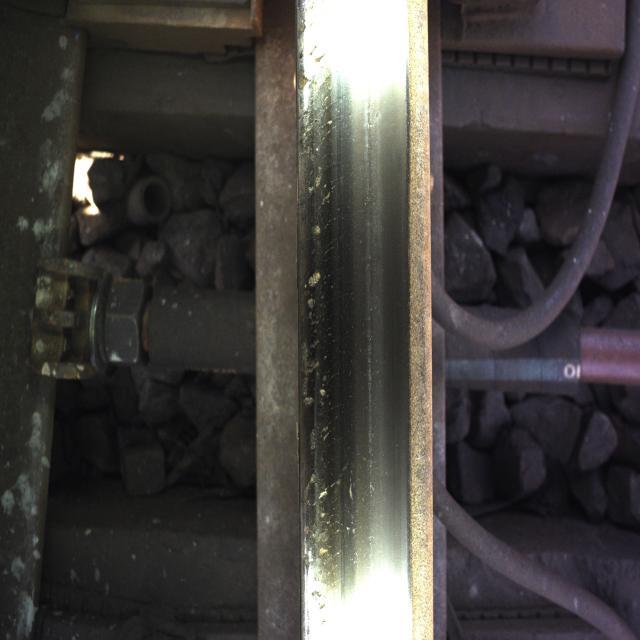crack: (298, 34, 362, 601)
